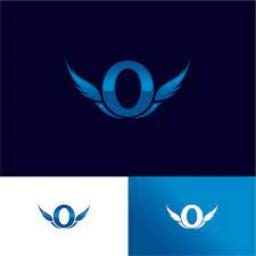o: (74, 48, 178, 128), (35, 200, 89, 236)
